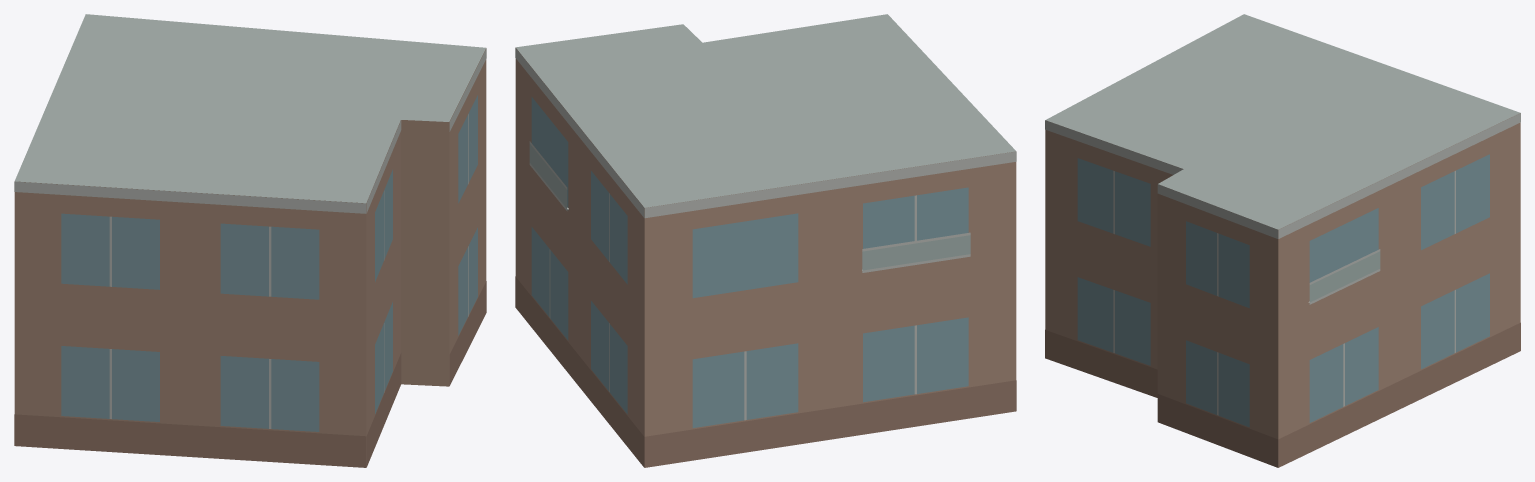
The model's file is survey-upis-33044341.glb.
The picture shows the model from 3 angles, left to right: view 1: azimuth 30°, elevation 25°; view 2: azimuth 150°, elevation 25°; view 3: azimuth 270°, elevation 25°; orthographic projection. The views are drawn at different scales.
Visible parts, largest first — view 1: survey-upis-33044341.tmp; view 2: survey-upis-33044341.tmp; view 3: survey-upis-33044341.tmp.
Boxes of the visible parts, x1,y1,x2,y2 form: survey-upis-33044341.tmp: [14, 14, 486, 467]; survey-upis-33044341.tmp: [515, 14, 1016, 467]; survey-upis-33044341.tmp: [1045, 14, 1520, 467].
Size of the model in its own units: 11.86 by 6.1 by 11.05.
